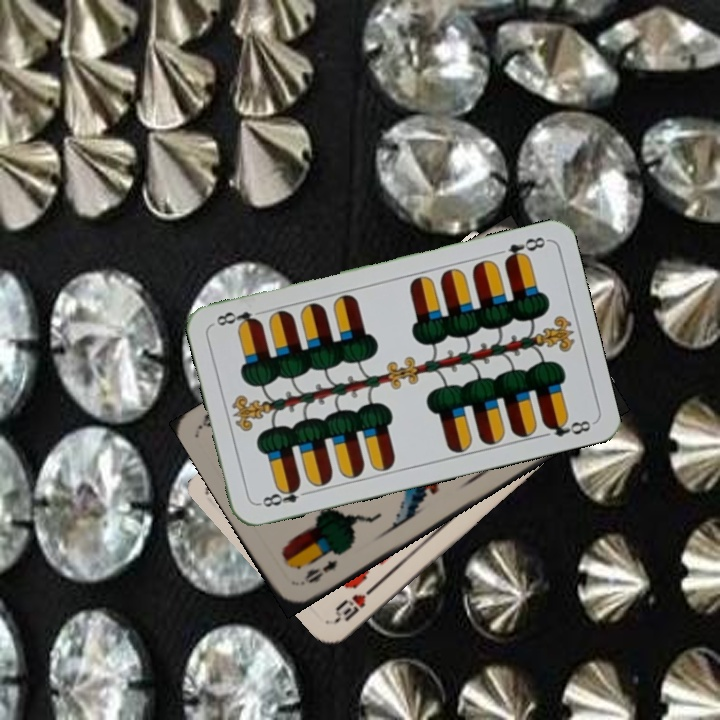E8: (254, 480, 313, 510), (500, 232, 550, 266)
EO: (300, 556, 340, 586)
H10: (330, 581, 379, 625)
